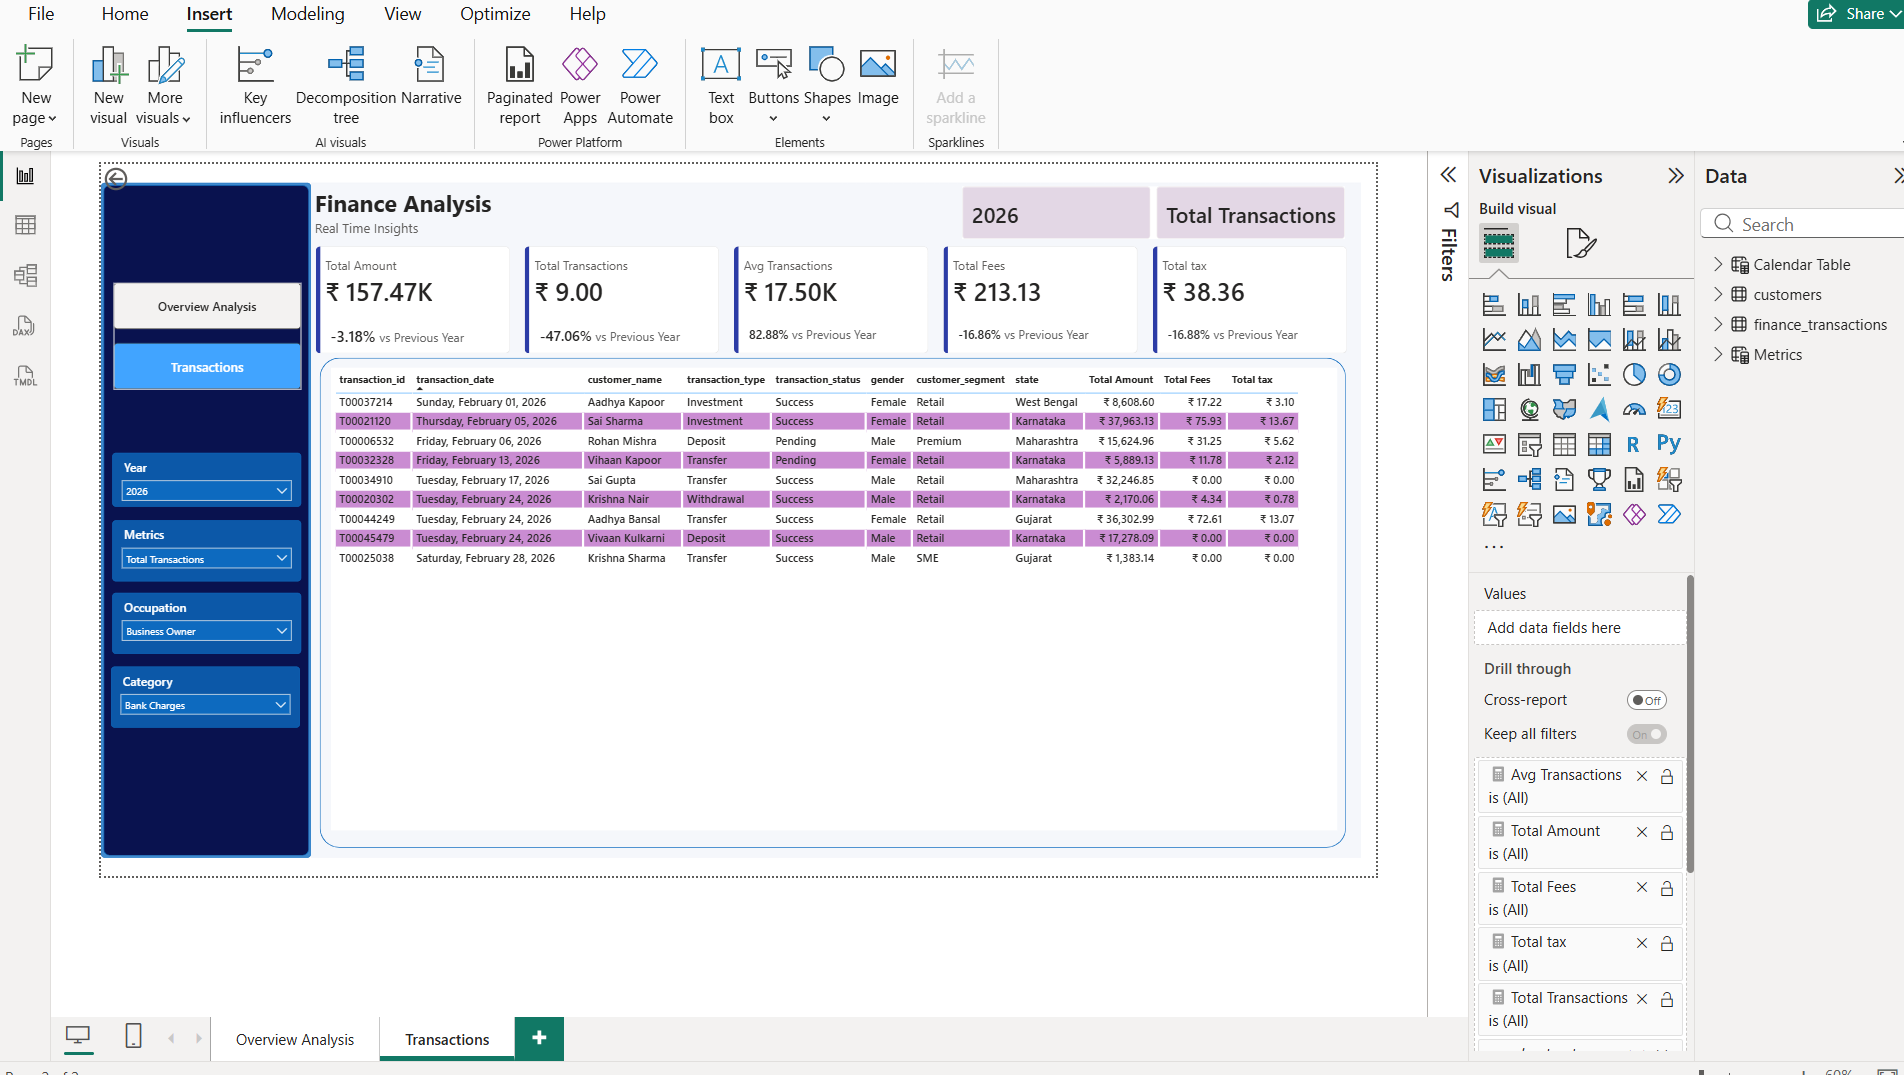

This screenshot's page, from the dashboard's own definition file:
{"tool":"powerbi","page":{"name":"Transactions","canvas":[1700,950],"ordinal":1},"visuals":[{"type":"shape","box":[280,25,1400,900],"z":0},{"type":"shape","box":[0,25,280,900],"z":1000},{"type":"cardVisual","fields":{"Data":["finance_transactions.Dashboard Title"]},"box":[280,25.7,332.9,77.1],"z":2000},{"type":"cardVisual","fields":{"Data":["finance_transactions.Total Amount","finance_transactions.Total Transactions","finance_transactions.Avg Transactions","finance_transactions.Total Fees","finance_transactions.Total tax"]},"box":[280,102.9,1390,155.7],"z":3000},{"type":"shape","box":[291.7,258.3,1368.3,653.3],"z":4000},{"type":"cardVisual","fields":{"Data":["finance_transactions.Selected Year","finance_transactions.Selected Metrics"]},"box":[1143.3,25,521.7,80],"z":5000},{"type":"tableEx","fields":{"Values":["finance_transactions.transaction_id","finance_transactions.transaction_date","customers.customer_name","finance_transactions.transaction_type","finance_transactions.transaction_status","customers.gender","customers.customer_segment","customers.state","finance_transactions.Total Amount","finance_transactions.Total Fees","finance_transactions.Total tax"]},"box":[306.7,271.7,1341.7,616.7],"z":6000},{"type":"actionButton","box":[0,0,100,40],"z":7000},{"type":"slicer","fields":{"Values":["Calendar Table.Year"]},"box":[15,385,251.7,71.7],"z":8000},{"type":"slicer","fields":{"Values":["Metrics.Metrics"]},"box":[15,475,251.7,81.7],"z":9000},{"type":"slicer","fields":{"Values":["customers.occupation"]},"box":[15,571.7,251.7,81.7],"z":10000},{"type":"slicer","fields":{"Values":["finance_transactions.merchant_category"]},"box":[13.3,670,251.7,81.7],"z":11000},{"type":"pageNavigator","box":[16.7,158.3,250,143.3],"z":12000}]}

Visuals, with their boxes on the page's 1700x950 design canvas (x1, y1, x2, y2). These are canvas units, not pixel positions in the 1904x1075 screenshot, which may show the page scaled, cropped or inside an application window:
shape: (280,25,1680,925)
shape: (0,25,280,925)
cardVisual - finance_transactions.Dashboard Title: (280,26,613,103)
cardVisual - finance_transactions.Total Amount x finance_transactions.Total Transactions: (280,103,1670,259)
shape: (292,258,1660,912)
cardVisual - finance_transactions.Selected Year x finance_transactions.Selected Metrics: (1143,25,1665,105)
tableEx - finance_transactions.transaction_id x finance_transactions.transaction_date: (307,272,1648,888)
actionButton: (0,0,100,40)
slicer - Calendar Table.Year: (15,385,267,457)
slicer - Metrics.Metrics: (15,475,267,557)
slicer - customers.occupation: (15,572,267,653)
slicer - finance_transactions.merchant_category: (13,670,265,752)
pageNavigator: (17,158,267,302)
